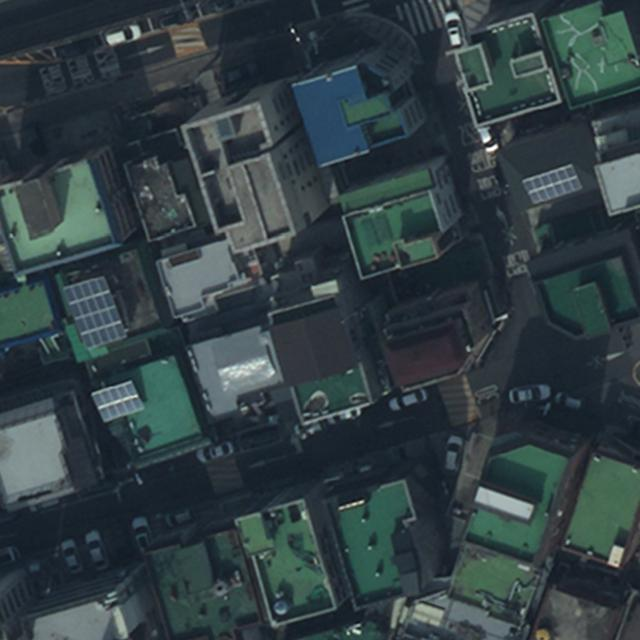panel: (61, 274, 127, 352), (519, 162, 583, 204), (89, 378, 145, 423)
